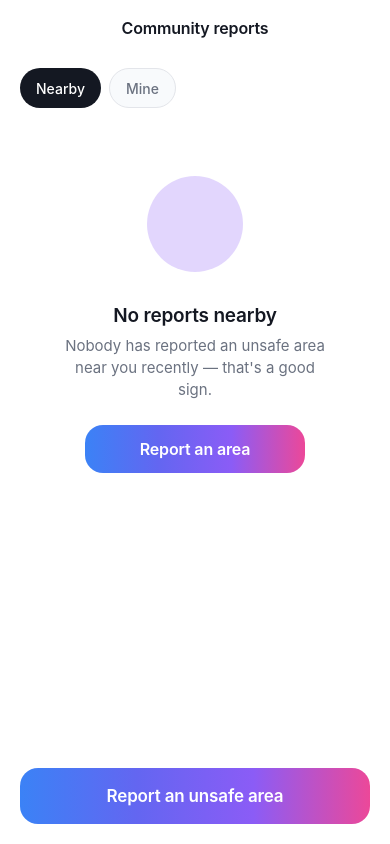
Test case: CommunityReportsScreen › shows an empty state with a CTA when the user has no reports of their own
This screenshot has width=390, height=844.
Expected: the text "No reports nearby" is shown, [113, 304, 277, 327]
Click the text "Mine": (142, 88) [126, 80, 159, 96]
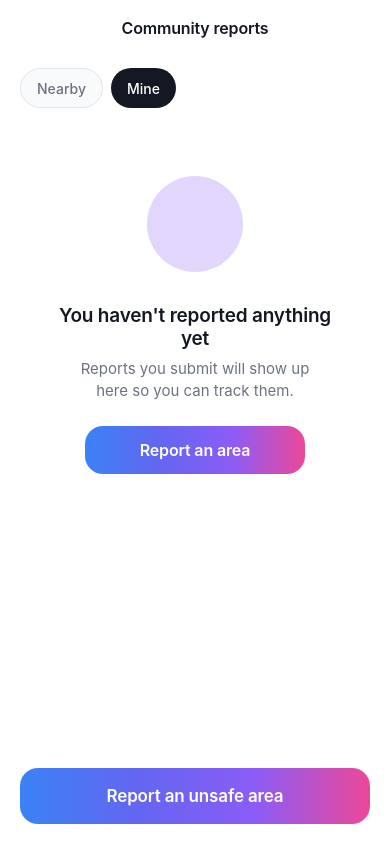
Expected: the text "You haven't reported anything yet" is shown, [52, 304, 338, 350]
